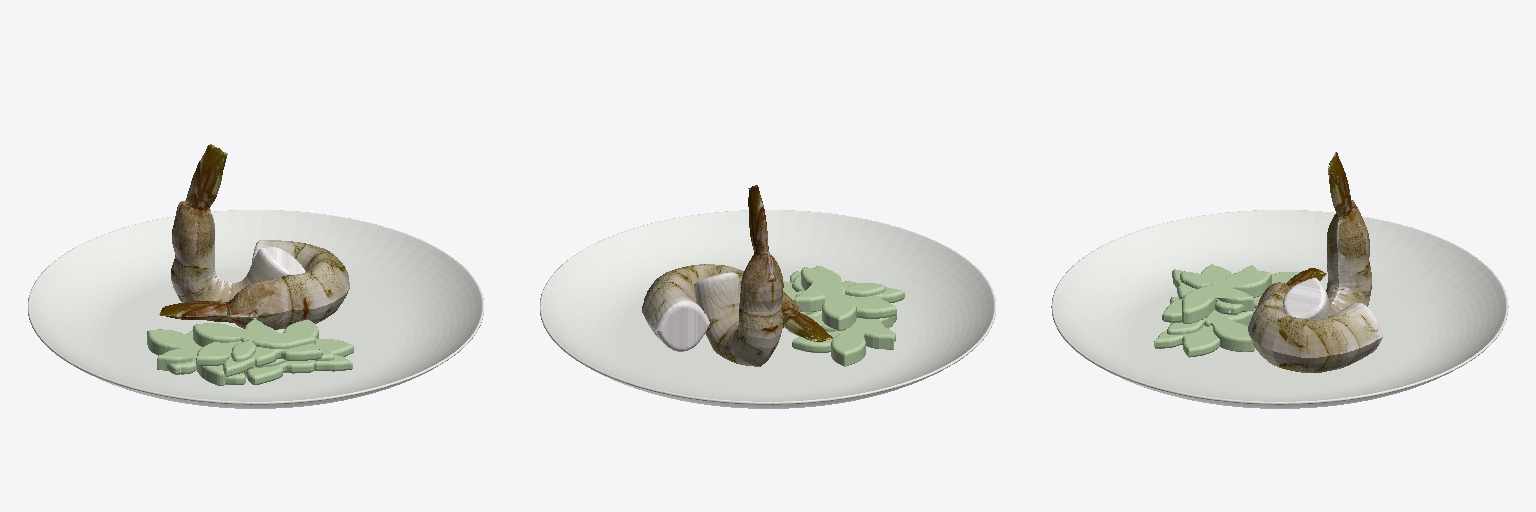
3 renders of one model, left to right at view 1: azimuth 30°, elevation 25°; view 2: azimuth 150°, elevation 25°; view 3: azimuth 270°, elevation 25°, orthographic.
Visible parts, largest first — view 1: Mesh1 Prato01_1 Model, Mesh2 Componente_6_1 Model, Mesh3 Componente_6_2 Model, Mesh16 Componente_1_5 Componente_2_3 Model, Mesh10 Componente_1_3 Componente_2_2 Model, Mesh17 Componente_3_5 Componente_2_3 Model, Mesh5 Componente_3_1 Componente_2_1 Model, Mesh4 Componente_1_1 Componente_2_1 Model; view 2: Mesh1 Prato01_1 Model, Mesh3 Componente_6_2 Model, Mesh2 Componente_6_1 Model, Mesh16 Componente_1_5 Componente_2_3 Model, Mesh10 Componente_1_3 Componente_2_2 Model, Mesh17 Componente_3_5 Componente_2_3 Model; view 3: Mesh1 Prato01_1 Model, Mesh2 Componente_6_1 Model, Mesh3 Componente_6_2 Model, Mesh16 Componente_1_5 Componente_2_3 Model, Mesh4 Componente_1_1 Componente_2_1 Model, Mesh5 Componente_3_1 Componente_2_1 Model, Mesh17 Componente_3_5 Componente_2_3 Model.
Boxes of the visible parts, x1,y1,x2,y2 form: Mesh1 Prato01_1 Model: [28, 210, 483, 408]; Mesh2 Componente_6_1 Model: [159, 240, 349, 329]; Mesh3 Componente_6_2 Model: [171, 144, 305, 322]; Mesh16 Componente_1_5 Componente_2_3 Model: [193, 318, 315, 361]; Mesh10 Componente_1_3 Componente_2_2 Model: [147, 329, 225, 381]; Mesh17 Componente_3_5 Componente_2_3 Model: [196, 341, 322, 373]; Mesh5 Componente_3_1 Componente_2_1 Model: [246, 338, 353, 381]; Mesh4 Componente_1_1 Componente_2_1 Model: [244, 319, 333, 373]; Mesh1 Prato01_1 Model: [540, 210, 995, 408]; Mesh3 Componente_6_2 Model: [694, 185, 783, 366]; Mesh2 Componente_6_1 Model: [642, 264, 832, 351]; Mesh16 Componente_1_5 Componente_2_3 Model: [795, 267, 885, 326]; Mesh10 Componente_1_3 Componente_2_2 Model: [811, 305, 896, 362]; Mesh17 Componente_3_5 Componente_2_3 Model: [812, 266, 904, 314]; Mesh1 Prato01_1 Model: [1051, 210, 1508, 408]; Mesh2 Componente_6_1 Model: [1248, 268, 1382, 372]; Mesh3 Componente_6_2 Model: [1283, 152, 1371, 318]; Mesh16 Componente_1_5 Componente_2_3 Model: [1180, 271, 1271, 319]; Mesh4 Componente_1_1 Componente_2_1 Model: [1167, 310, 1254, 347]; Mesh5 Componente_3_1 Componente_2_1 Model: [1154, 297, 1219, 353]; Mesh17 Componente_3_5 Componente_2_3 Model: [1162, 264, 1232, 318].
Bounding box in the file's own units: 301 × 139 × 301.
4 materials, 1 textured.